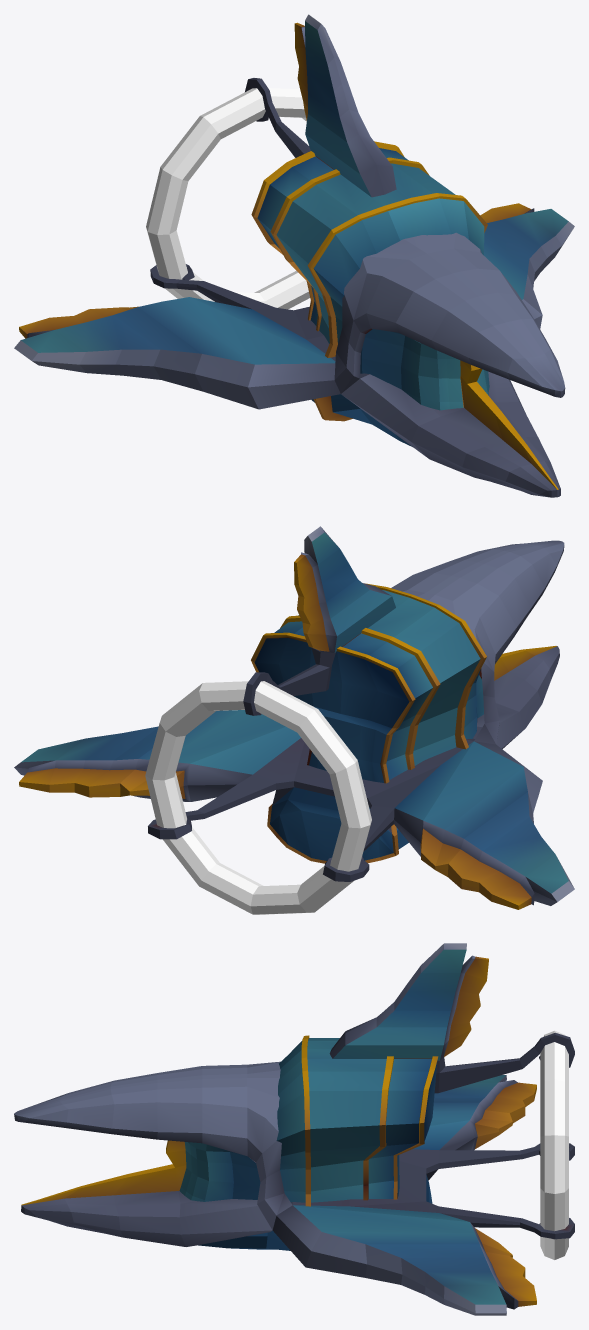
File: watership1.fbx
The picture shows the model from 3 angles, top to bottom: view 1: azimuth 30°, elevation 25°; view 2: azimuth 150°, elevation 25°; view 3: azimuth 270°, elevation 25°; orthographic projection. The views are drawn at different scales.
Parts seen in each view (by area): view 1: WaterShip, WaterShip.Ring; view 2: WaterShip, WaterShip.Ring; view 3: WaterShip, WaterShip.Ring.
Part boxes in pixels (left/top/right/bottom): WaterShip: left=14, top=14, right=574, bottom=497; WaterShip.Ring: left=146, top=88, right=310, bottom=309; WaterShip: left=14, top=526, right=574, bottom=909; WaterShip.Ring: left=145, top=681, right=371, bottom=914; WaterShip: left=14, top=943, right=574, bottom=1315; WaterShip.Ring: left=540, top=1030, right=568, bottom=1259.
Bounding box in the file's own units: 1355 × 817 × 1356.
